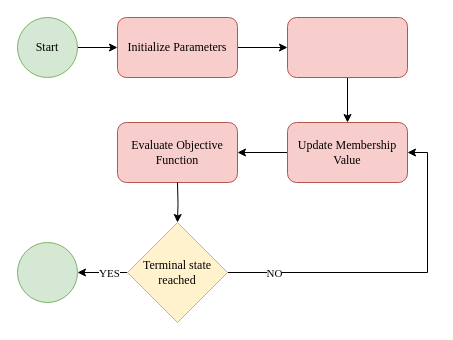
Image size: 453x340. Some labels were removed from this diagram. Each missing label, with the box of its shape:
Compute Cluster Center: (286, 16, 408, 78)
End: (16, 242, 78, 302)
